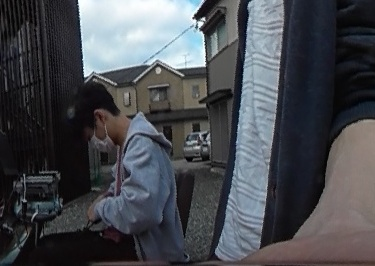person: (70, 76, 185, 266)
